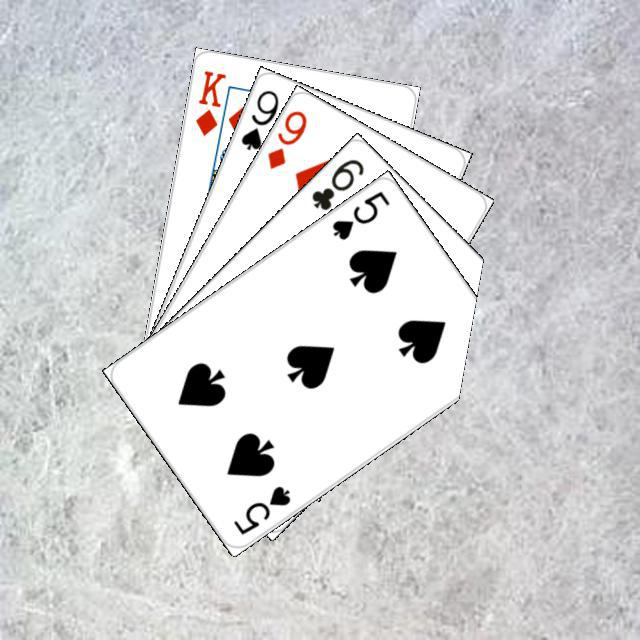5s: (228, 480, 292, 537), (327, 186, 392, 242)
6c: (306, 153, 366, 212)
9d: (262, 105, 309, 171)
9s: (236, 85, 281, 152)
Kd: (190, 65, 228, 137)
